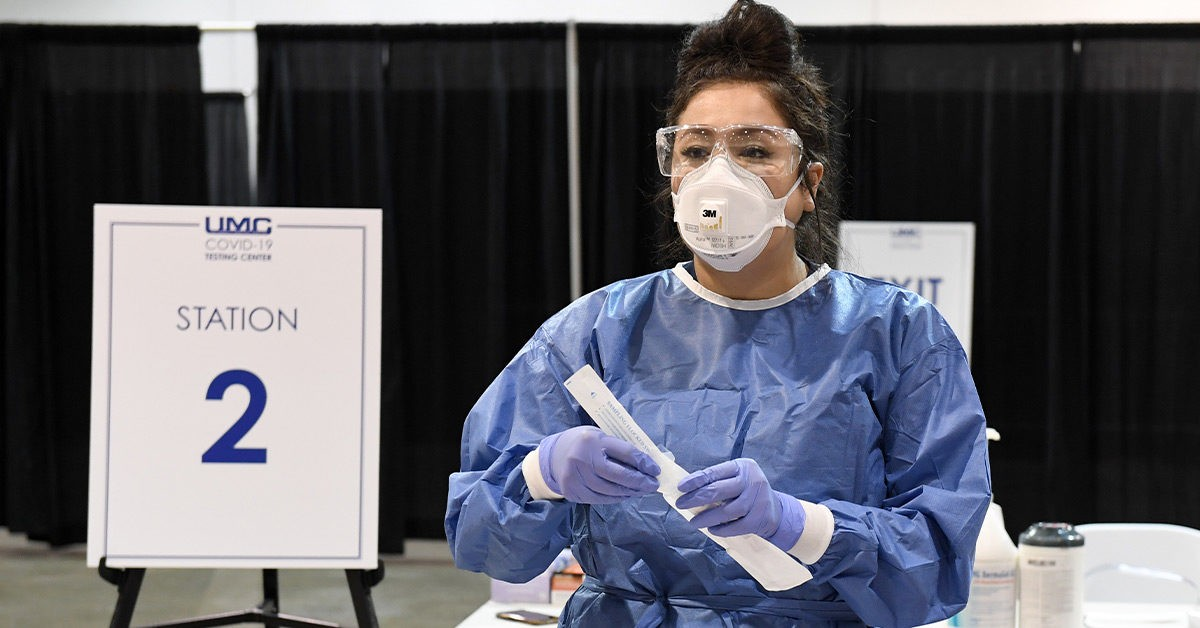Coverall: (442, 252, 1002, 628)
Gloves: (671, 455, 811, 566), (533, 419, 673, 516)
Goggles: (649, 118, 813, 189)
with_mask: (677, 139, 798, 276)
